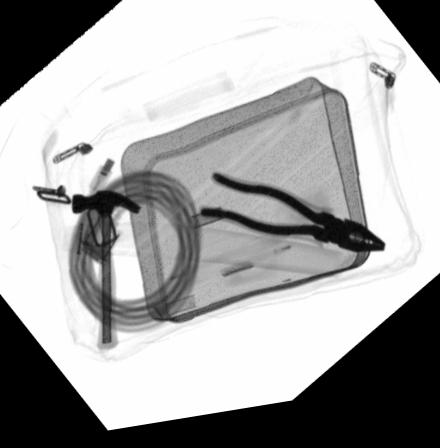Hammer: (71, 192, 141, 354)
Pliers: (196, 177, 387, 266)
